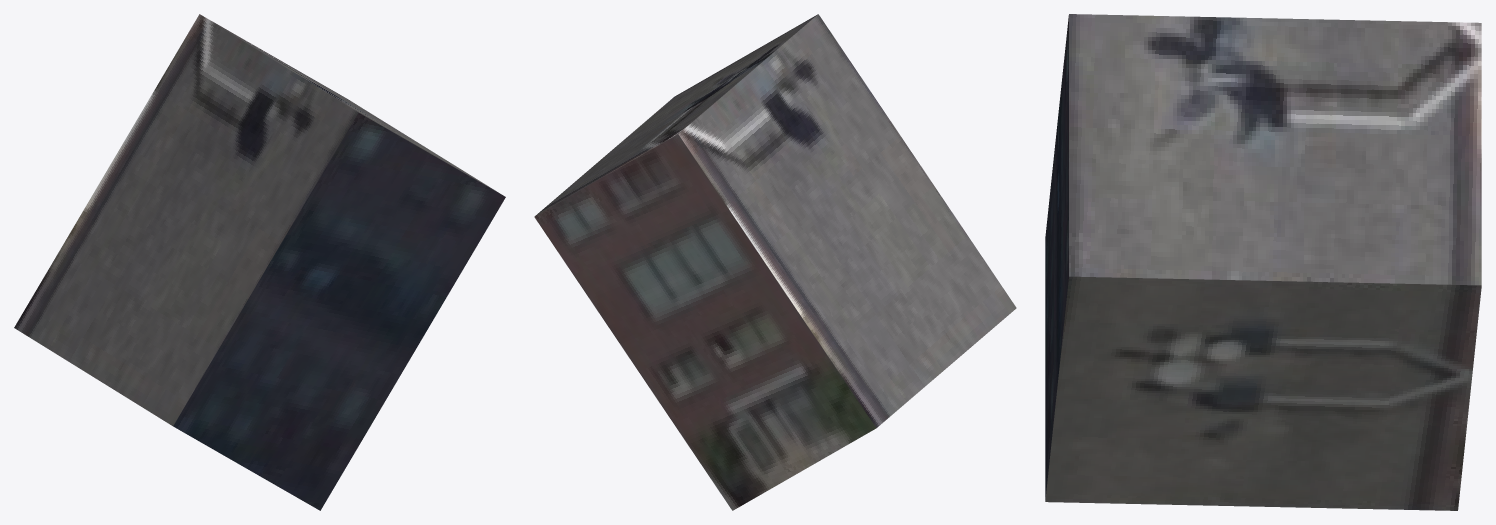
3 renders of one model, left to right at view 1: azimuth 30°, elevation 25°; view 2: azimuth 150°, elevation 25°; view 3: azimuth 270°, elevation 25°, orthographic. The views are drawn at different scales.
Visible parts, largest first — view 1: BAG_0599100000760429; view 2: BAG_0599100000760429; view 3: BAG_0599100000760429.
Part boxes in pixels (x1,y1,x2,y2): BAG_0599100000760429: [14, 14, 505, 510]; BAG_0599100000760429: [534, 14, 1016, 510]; BAG_0599100000760429: [1045, 14, 1481, 510].
Bounding box in the file's own units: 13.05 × 13.95 × 10.35.
Materials: 2 (1 with a texture image).
